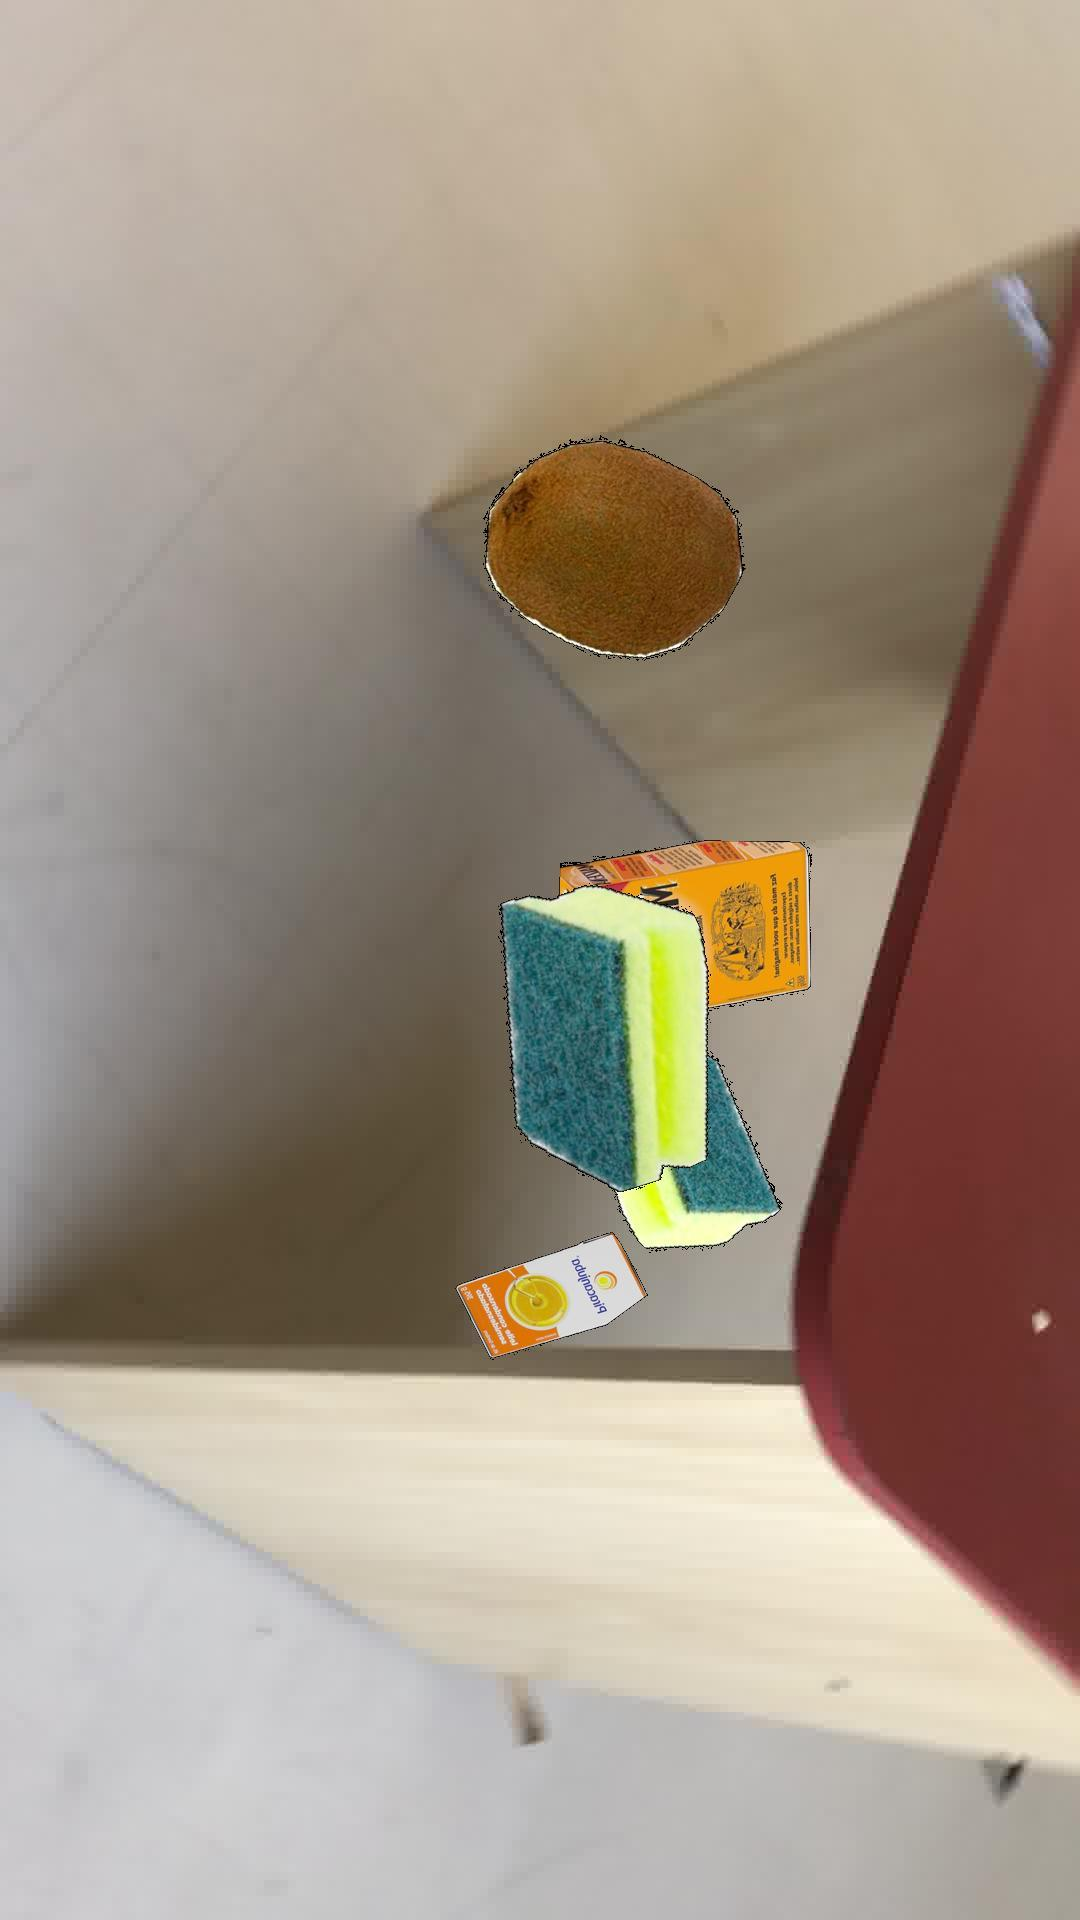kiwi: (481, 438, 745, 658)
sponge: (497, 884, 708, 1191), (612, 1054, 782, 1247)
